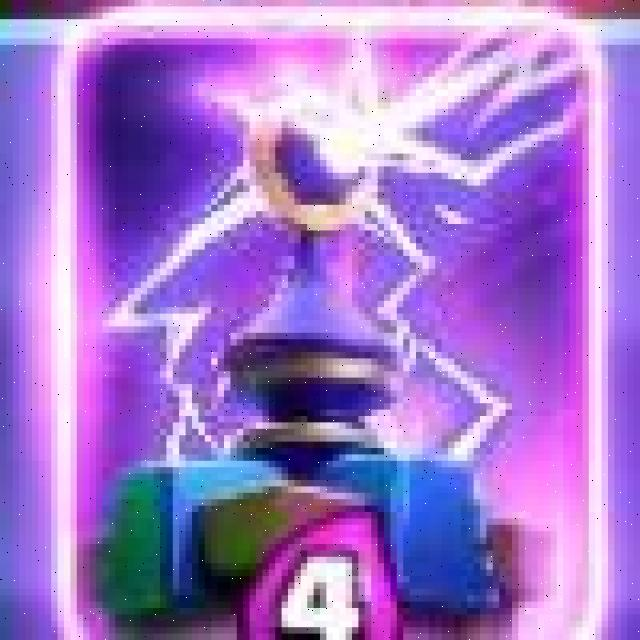Evolved_Tesla: (59, 8, 608, 640)
